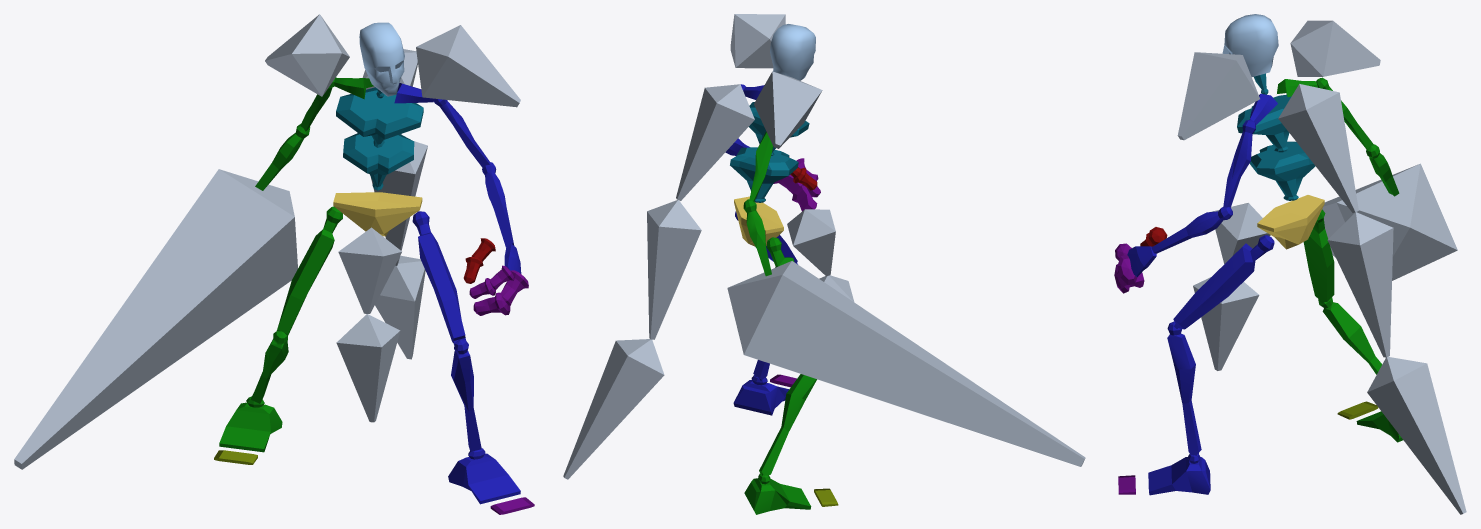
The model's file is ArthasLichKingRig.obj.
The picture shows the model from 3 angles, left to right: view 1: azimuth 30°, elevation 25°; view 2: azimuth 150°, elevation 25°; view 3: azimuth 270°, elevation 25°; orthographic projection. The views are drawn at different scales.
Parts seen in each view (by area): view 1: Bone01, Bone12, Bone08, Bone10, Bip01_Spine1, Bone05, Bone07, Bip01_Pelvis, Bip01_Head, Bip01_L_Thigh, Bip01_R_Thigh, Bip01_Spine (+8 smaller); view 2: Bone01, Bone05, Bone04, Bone03, Bone10, Bone12, Bone07, Bip01_Head, Bip01_R_Foot, Bip01_Spine, Bip01_R_Calf, Bip01_L_Foot (+3 smaller); view 3: Bone01, Bone05, Bone04, Bone03, Bone12, Bone10, Bip01_L_Thigh, Bone08, Bip01_Head, Bip01_Pelvis, Bip01_Spine, Bip01_L_Calf (+14 smaller).
Boxes of the visible parts, box(x1,y1,x2,y2) form: Bone01: box(14, 169, 297, 469); Bone12: box(416, 25, 520, 107); Bone08: box(336, 314, 400, 422); Bone10: box(265, 14, 349, 96); Bip01_Spine1: box(336, 87, 423, 147); Bone05: box(375, 255, 425, 359); Bone07: box(338, 227, 401, 313); Bip01_Pelvis: box(333, 192, 422, 236); Bip01_Head: box(359, 22, 404, 96); Bip01_L_Thigh: box(412, 211, 465, 345); Bip01_R_Thigh: box(276, 206, 342, 336); Bip01_Spine: box(343, 133, 414, 190); Bone01: box(727, 261, 1085, 466); Bone05: box(563, 339, 664, 479); Bone04: box(647, 200, 701, 339); Bone03: box(676, 84, 754, 200); Bone10: box(754, 71, 822, 148); Bone12: box(730, 14, 785, 68); Bone07: box(787, 209, 835, 276); Bip01_Head: box(770, 24, 815, 80); Bip01_R_Foot: box(744, 473, 811, 514); Bip01_Spine: box(730, 147, 798, 202); Bip01_R_Calf: box(759, 374, 816, 476); Bip01_L_Foot: box(733, 375, 788, 415); Bone01: box(1322, 163, 1457, 280); Bone05: box(1367, 357, 1466, 514); Bone04: box(1327, 212, 1393, 357); Bone03: box(1278, 84, 1358, 212); Bone12: box(1177, 52, 1259, 140); Bone10: box(1290, 20, 1380, 76); Bip01_L_Thigh: box(1173, 235, 1274, 329); Bone08: box(1193, 277, 1259, 370); Bip01_Head: box(1222, 14, 1278, 76); Bip01_Pelvis: box(1257, 195, 1324, 249); Bip01_Spine: box(1249, 141, 1315, 200); Bip01_L_Calf: box(1167, 321, 1201, 455).
Bounding box in the file's own units: 56.73 × 50.64 × 36.95.
